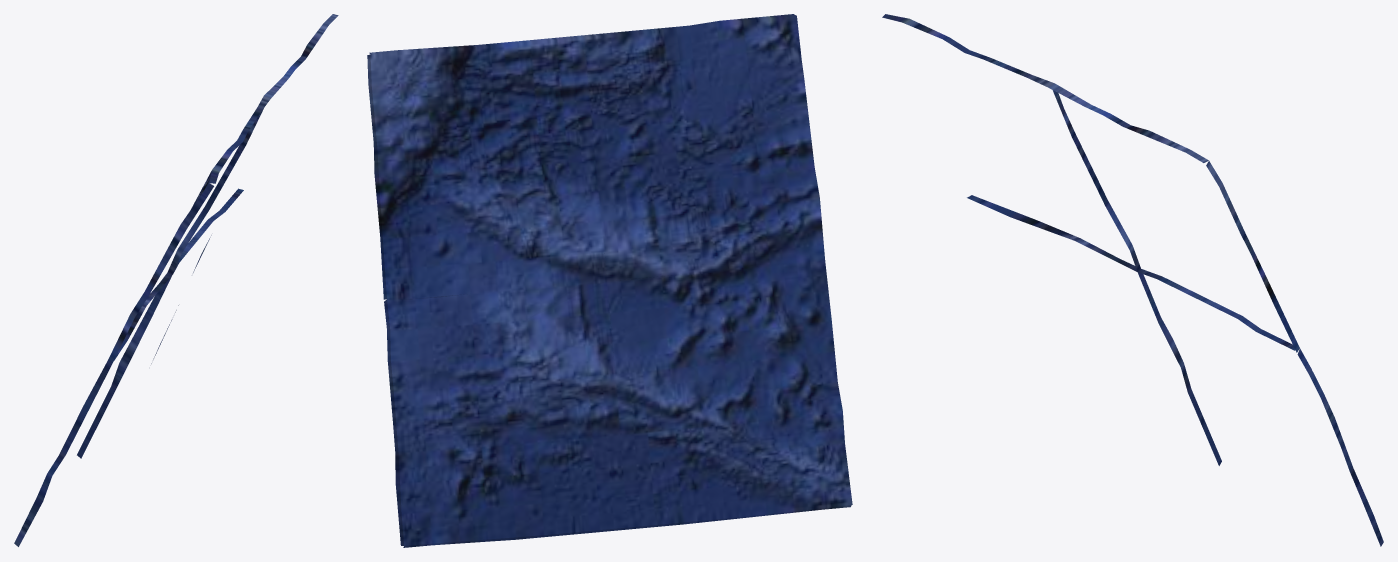
3 views of the same model, side by side, from view 1: azimuth 30°, elevation 25°; view 2: azimuth 150°, elevation 25°; view 3: azimuth 270°, elevation 25° (orthographic). The views are drawn at different scales.
Bounding box in the file's own units: 604859 × 573667 × 584141.
Materials: 1 (1 with a texture image).
